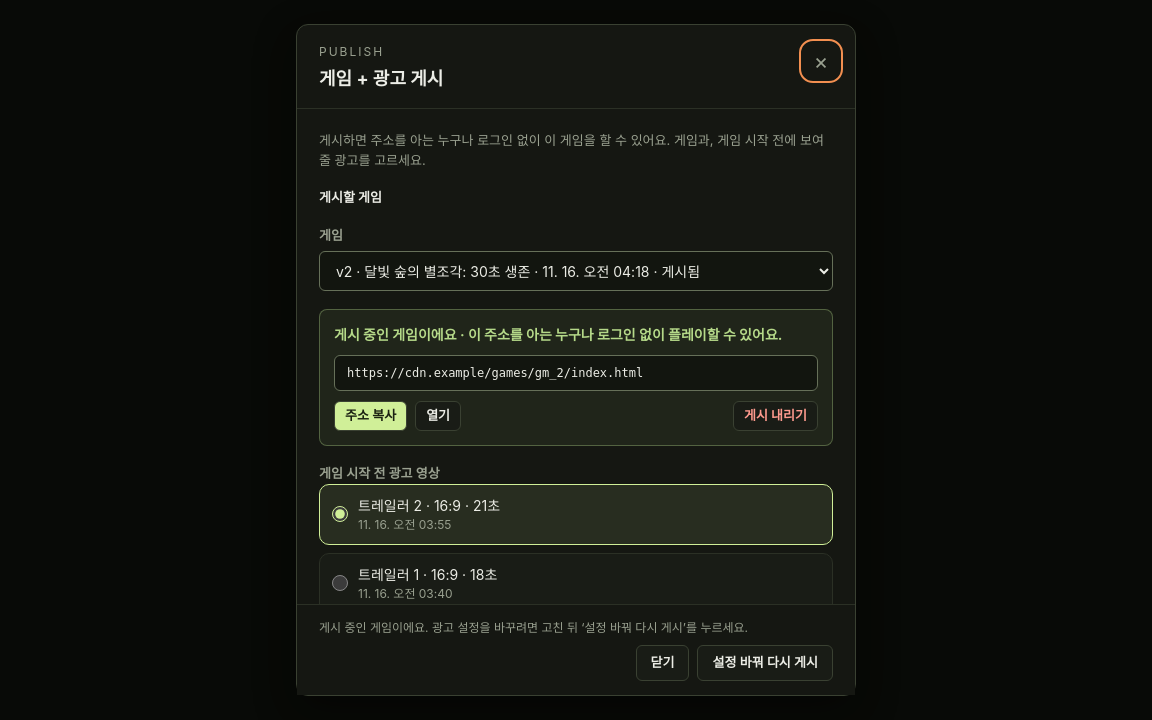
Test: R20-23 게시 내리기 › asks first, saying what goes and what stays, then takes the game down
Click the button "게시 내리기" at {"x": 775, "y": 416}, box [733,401,818,431]
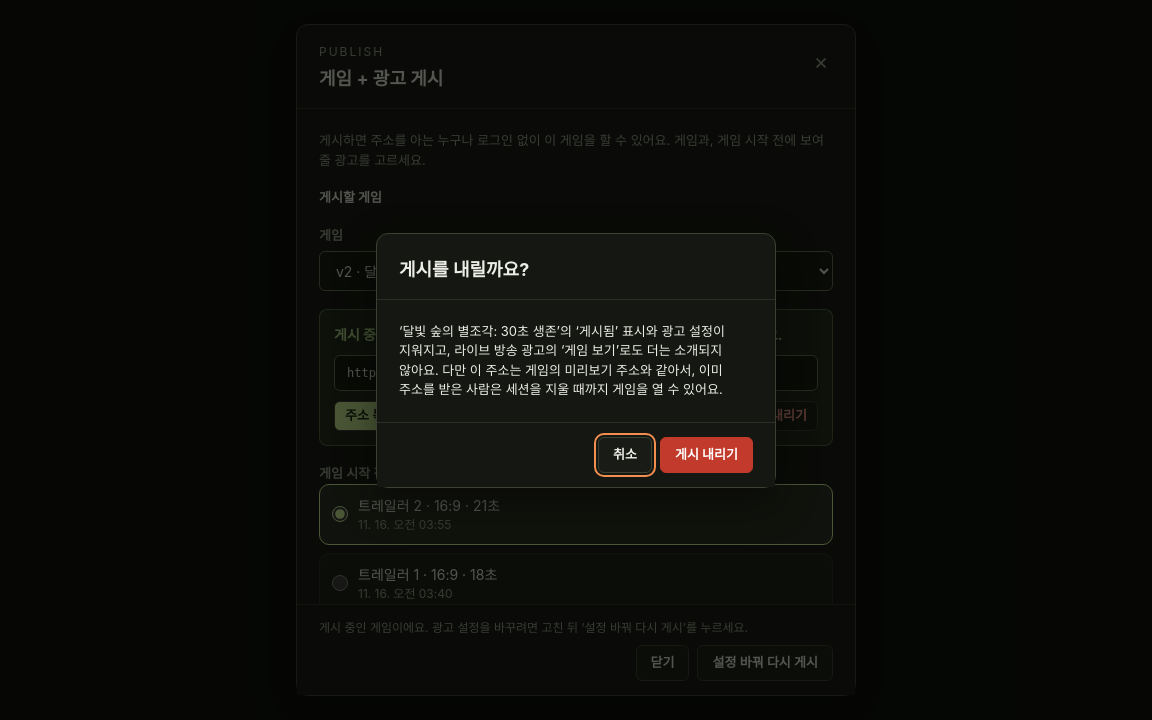
Check: the heading "게시를 내릴까요?" is shown, box [399,256,529,282]
Check: the text with class "dialog-lead" shows "‘달빛 숲의 별조각: 30초 생존’", box [399,322,725,397]
Check: the text with class "dialog-lead" shows "광고 설정이 지워", box [399,322,725,397]
Click the button "게시 내리기" at {"x": 706, "y": 454}, box [660,436,753,472]
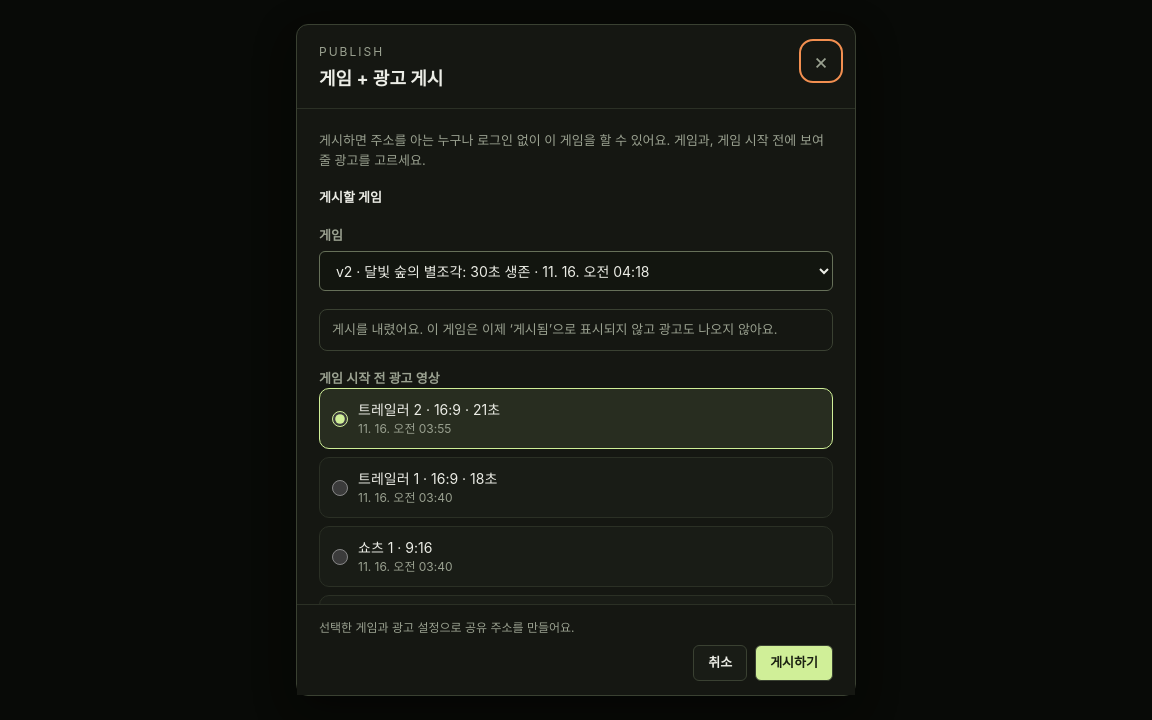
Check: the dialog is gone
Check: the message "게시를 내렸어요. 이 게임은 이제 ‘게시됨’으로 표시되지 않고 광고도 나오지 않아요." is shown, box [319,309,833,350]
